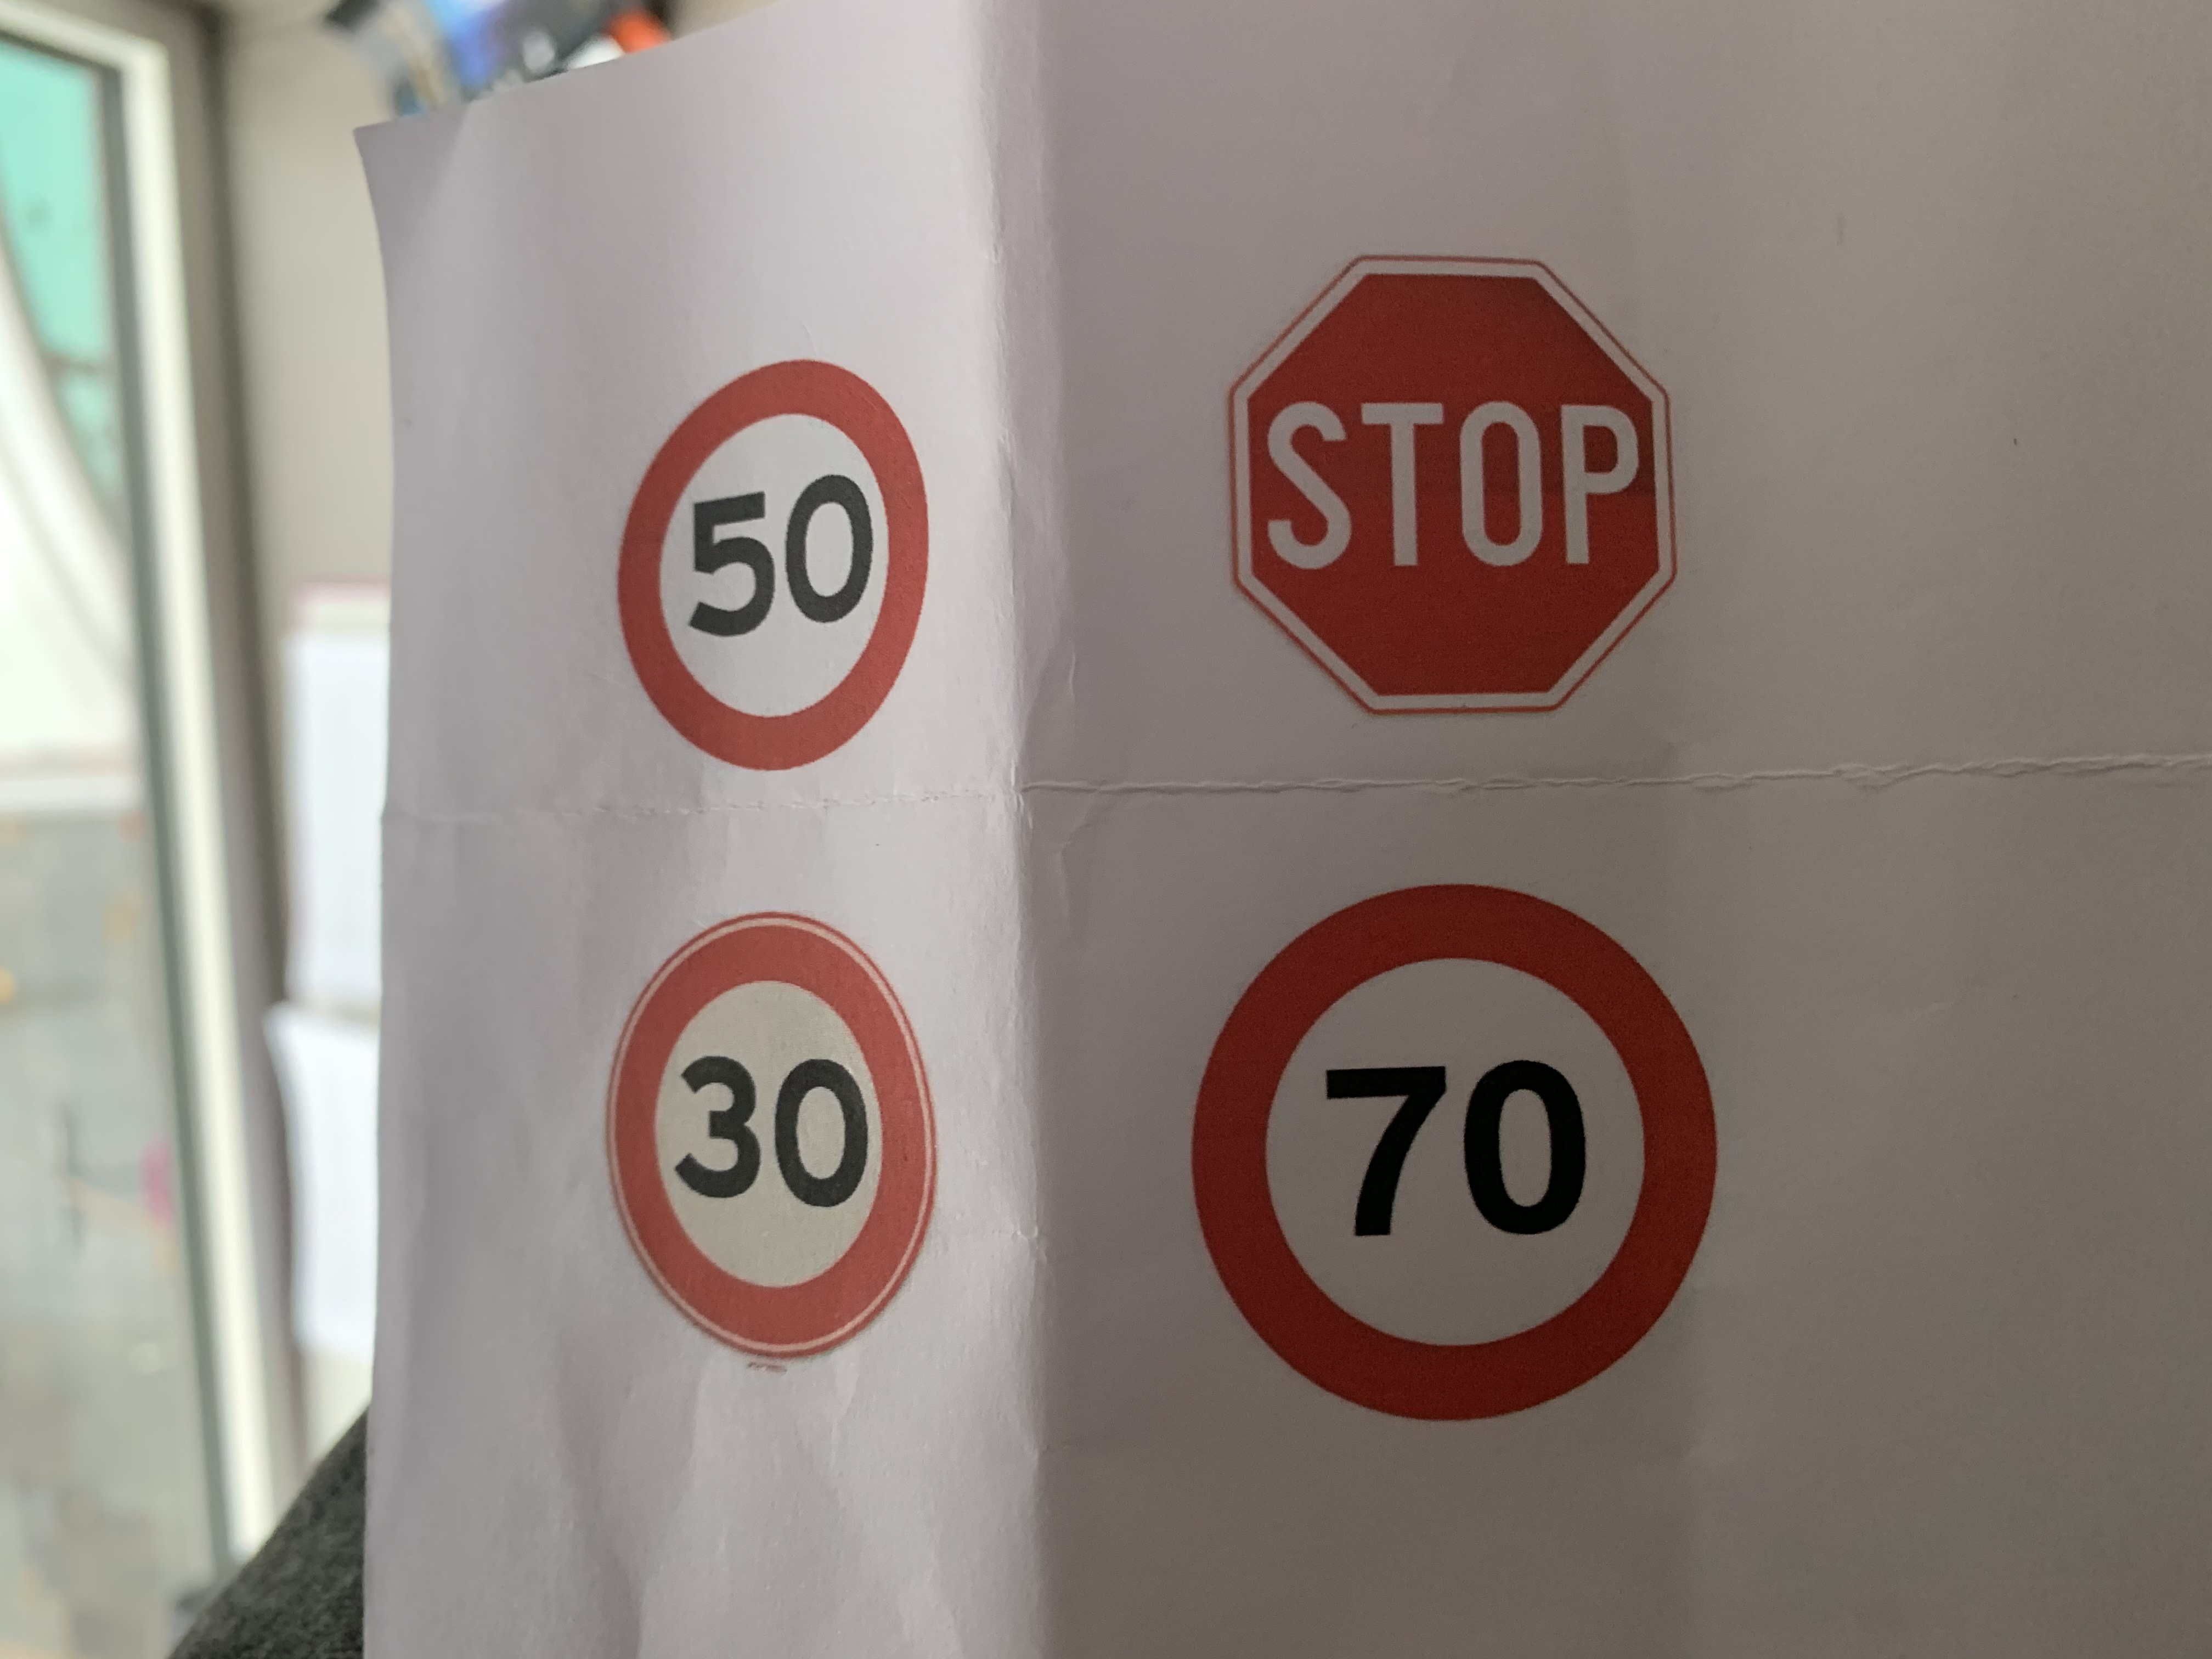30-limit: (592, 911, 932, 1368)
50-limit: (594, 356, 932, 769)
70-limit: (1176, 878, 1724, 1431)
stop-bord: (1223, 246, 1686, 714)
